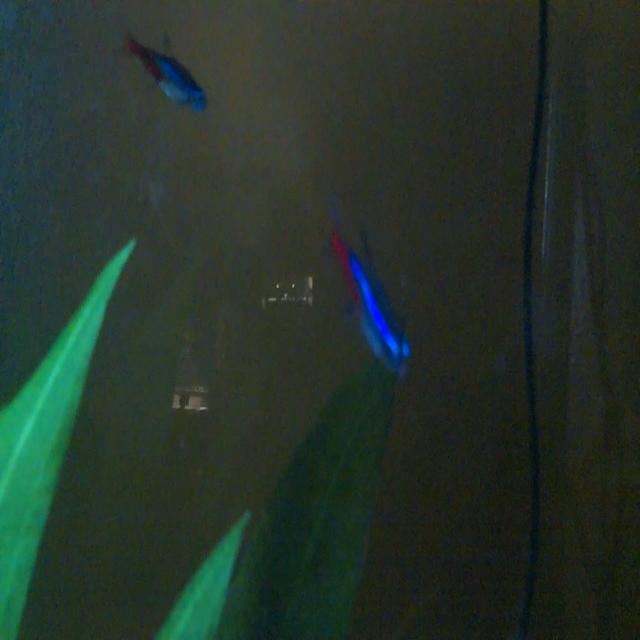fish: (307, 200, 425, 384), (104, 22, 221, 138)
